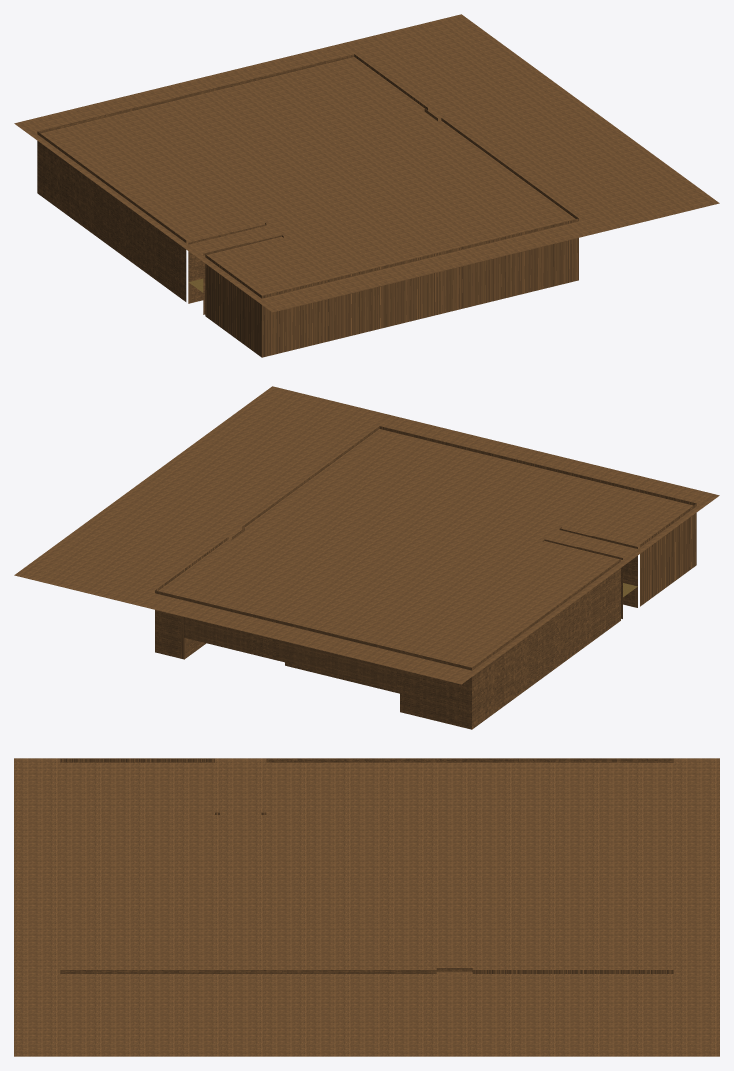
The model's file is Dungen2.gltf.
3 renders of one model, top to bottom at view 1: azimuth 30°, elevation 25°; view 2: azimuth 150°, elevation 25°; view 3: azimuth 270°, elevation 25°, orthographic. The views are drawn at different scales.
Parts seen in each view (by area): view 1: Plane, map; view 2: Plane, map; view 3: Plane, map.
Boxes of the visible parts, <box> form: Plane: <box>14,14,719,312</box>; map: <box>37,54,578,357</box>; Plane: <box>14,386,719,684</box>; map: <box>155,426,696,729</box>; Plane: <box>14,758,719,1056</box>; map: <box>60,758,673,973</box>.
Bounding box in the file's own units: 102 × 13.52 × 102.
3 materials, 2 textured.
